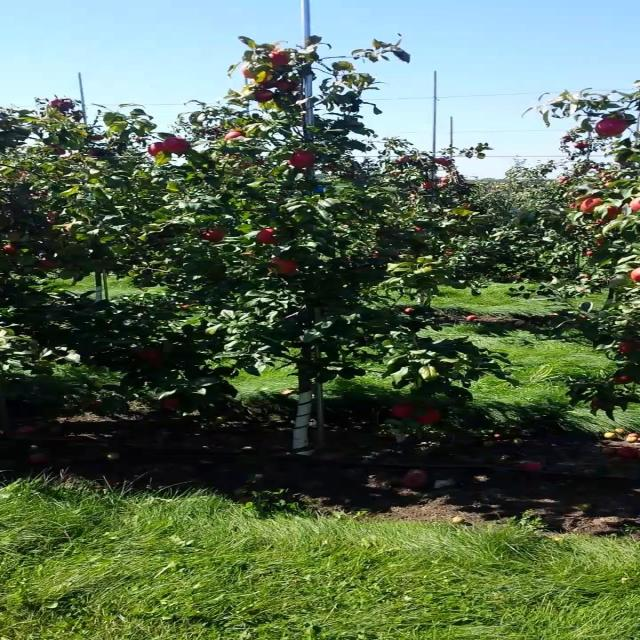apple: (596, 120, 629, 137), (269, 260, 299, 276), (291, 152, 316, 168), (390, 404, 414, 420), (419, 408, 441, 424), (163, 140, 192, 152), (269, 52, 292, 67), (582, 200, 604, 213), (141, 348, 164, 360), (255, 92, 277, 104), (205, 232, 228, 243), (276, 80, 297, 92), (148, 144, 167, 156), (262, 232, 279, 244), (241, 68, 256, 80), (611, 376, 633, 384), (596, 400, 615, 409), (6, 232, 21, 243), (618, 344, 636, 353), (262, 72, 276, 83), (163, 400, 180, 409), (227, 132, 245, 140), (262, 80, 277, 89), (42, 260, 57, 268), (205, 128, 220, 136), (611, 208, 624, 217), (6, 248, 21, 255), (632, 268, 639, 283), (632, 200, 639, 212), (156, 360, 164, 368), (404, 308, 412, 315)
